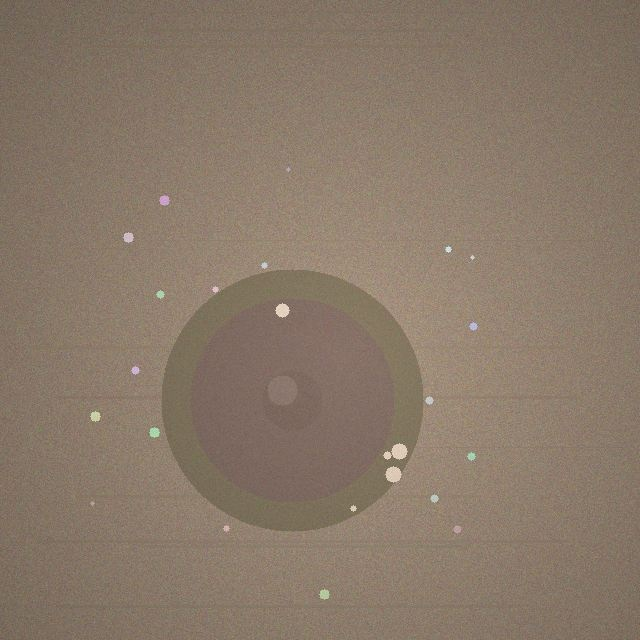overburn: (161, 269, 423, 531)
